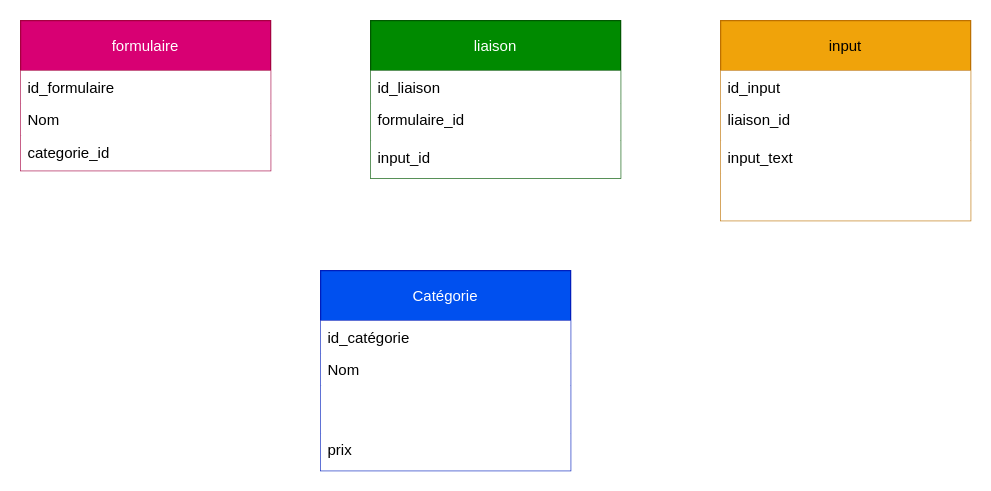
Image size: 991x491. Some labels were removed from this diagram. Each missing label, with the box of its shape:
Description: (320, 385, 570, 432)
input_date: (720, 172, 970, 220)
